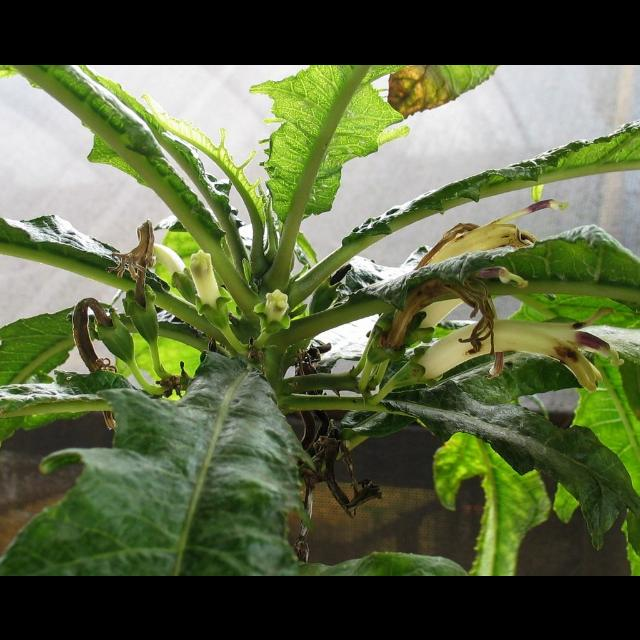Flower: (423, 198, 567, 314), (416, 306, 624, 380), (176, 248, 232, 322), (140, 240, 190, 294), (252, 286, 296, 336)
